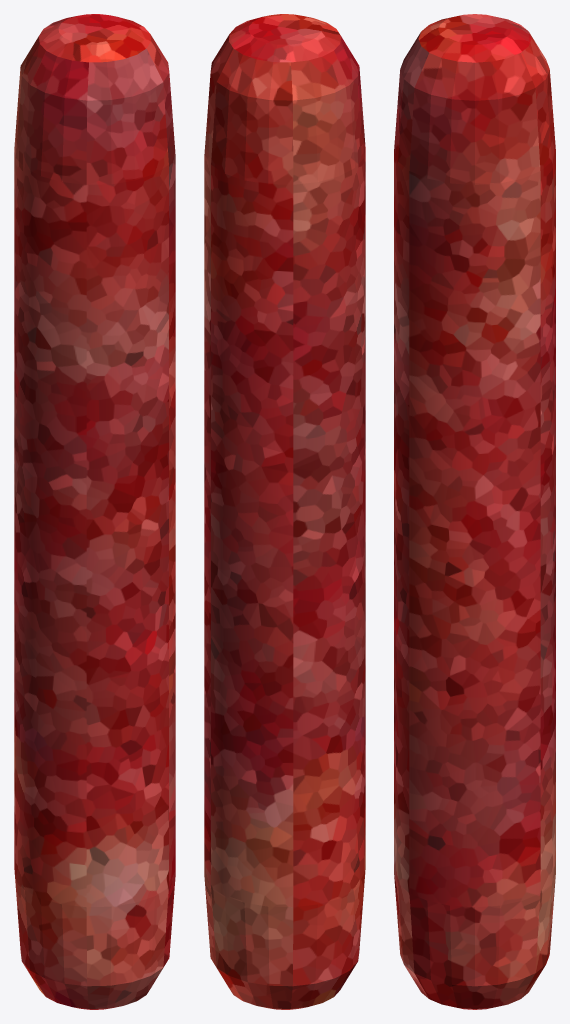
The model's file is sausage.fbx.
3 renders of one model, left to right at view 1: azimuth 30°, elevation 25°; view 2: azimuth 150°, elevation 25°; view 3: azimuth 270°, elevation 25°, orthographic.
Parts seen in each view (by area): view 1: pCylinder1; view 2: pCylinder1; view 3: pCylinder1.
Part boxes in pixels (x1,y1,x2,y2): pCylinder1: (14,14,175,1009); pCylinder1: (204,14,365,1009); pCylinder1: (394,14,555,1009).
Size of the model in its own units: 0.566 by 3.72 by 0.566.
1 material, 1 textured.
